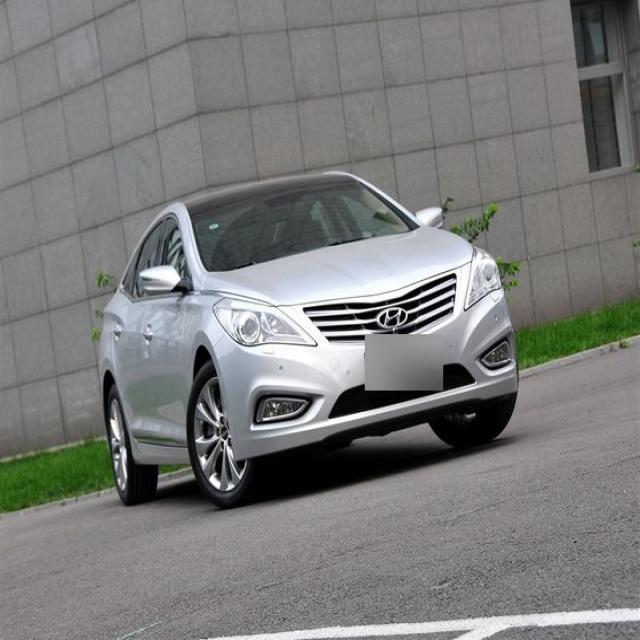front_bumper: (214, 297, 512, 468)
front_glass: (191, 178, 413, 271)
front_left_side_light: (463, 246, 506, 314)
front_left_side_mirror: (411, 202, 446, 237)
front_right_side_door: (142, 208, 196, 459)
front_right_side_light: (214, 295, 319, 352)
front_right_side_mirror: (140, 263, 186, 300)
wheel: (188, 362, 247, 504), (108, 388, 154, 502)
